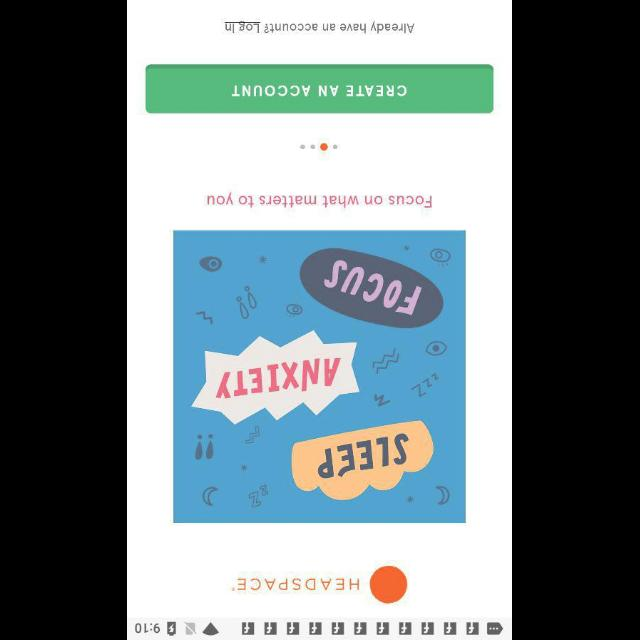image: (174, 230, 466, 522), (237, 564, 408, 604)
pageindicator: (300, 143, 338, 151)
text: (208, 192, 432, 208), (225, 21, 415, 34)
textbutton: (146, 64, 494, 114)
uppertaskbar: (128, 617, 512, 639)
